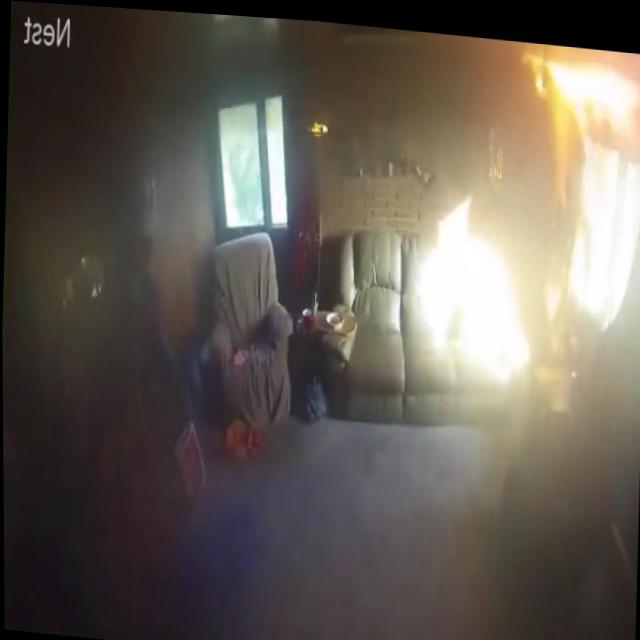fire: (512, 43, 640, 141)
